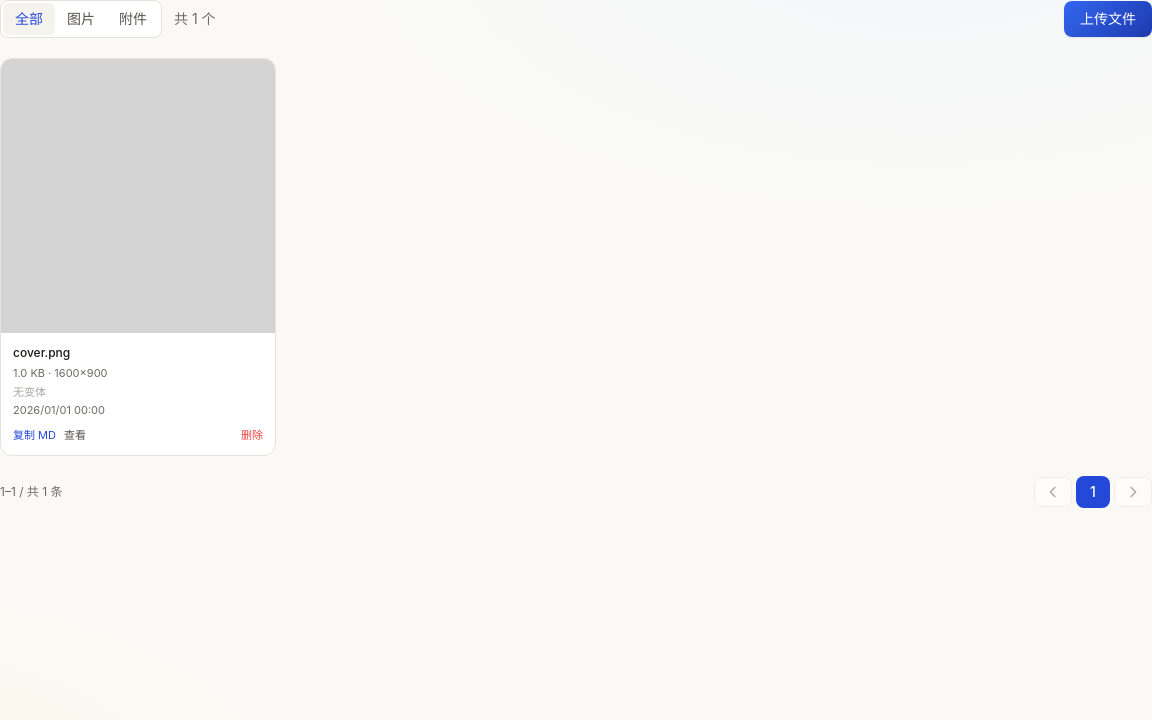
MediaView · 删除 › 取消删除：不发请求、卡片还在、确认框关掉
Click the button "删除": (252, 435) [241,426,263,443]
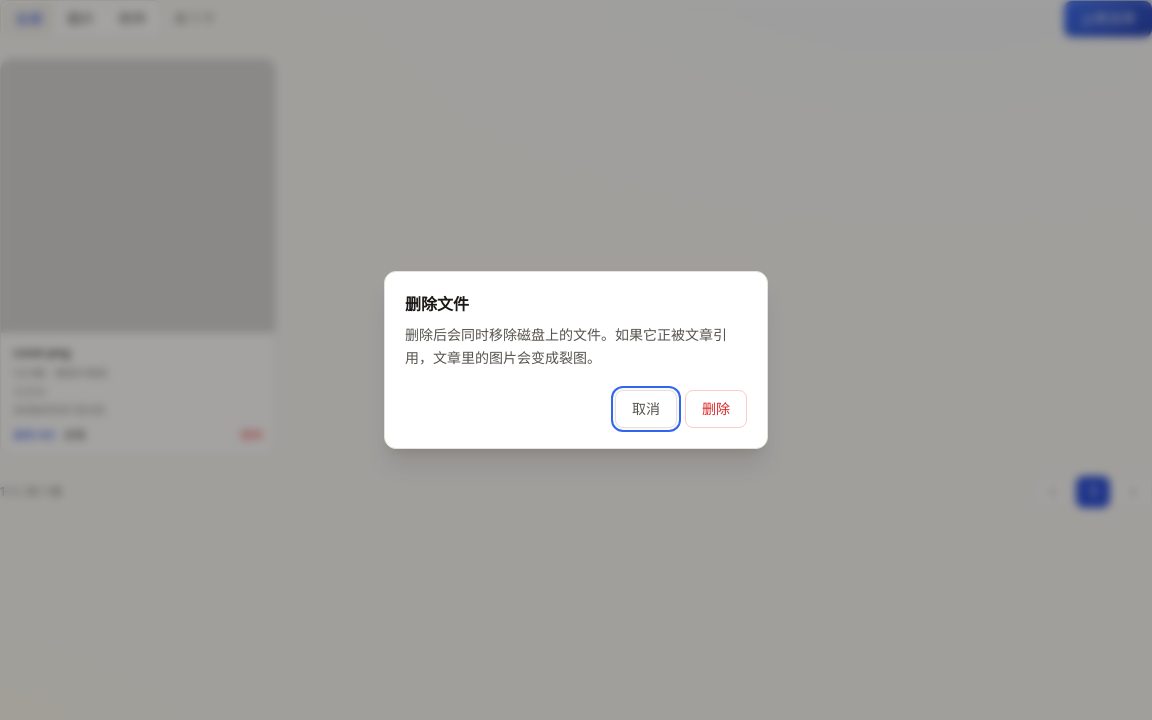
Click the button "取消": (646, 409) [615,390,677,428]
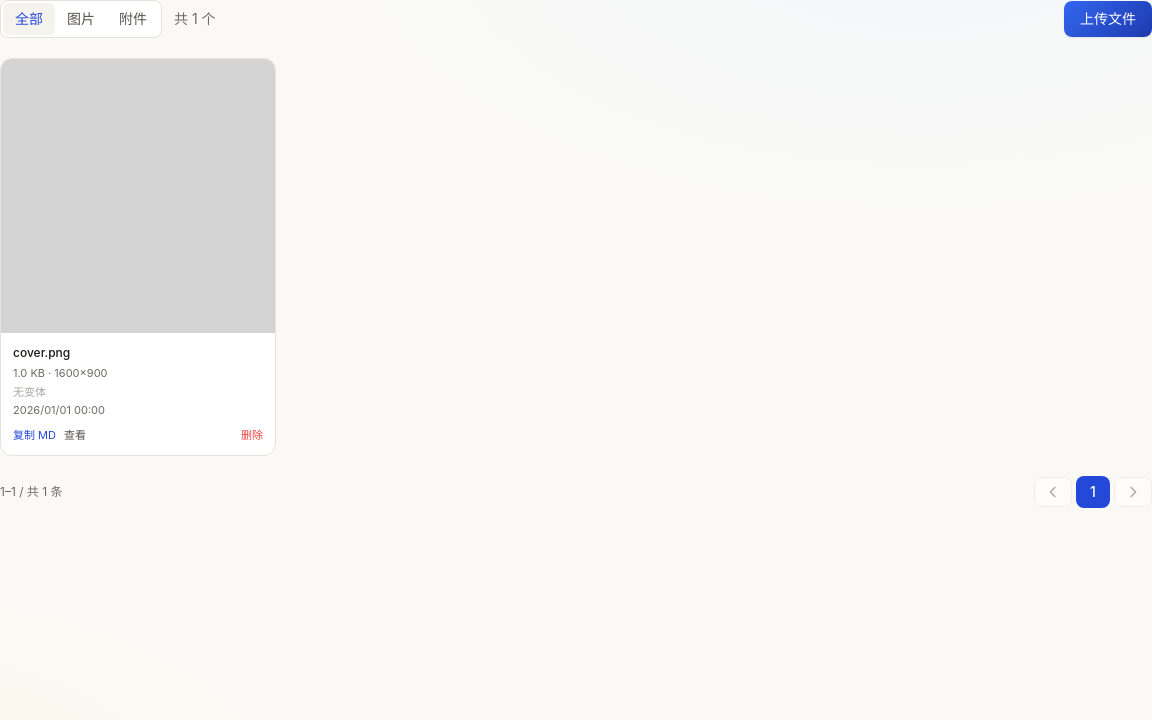
Expected: the text "cover.png" is shown, [13,345,70,360]
Result: the dialog is gone
